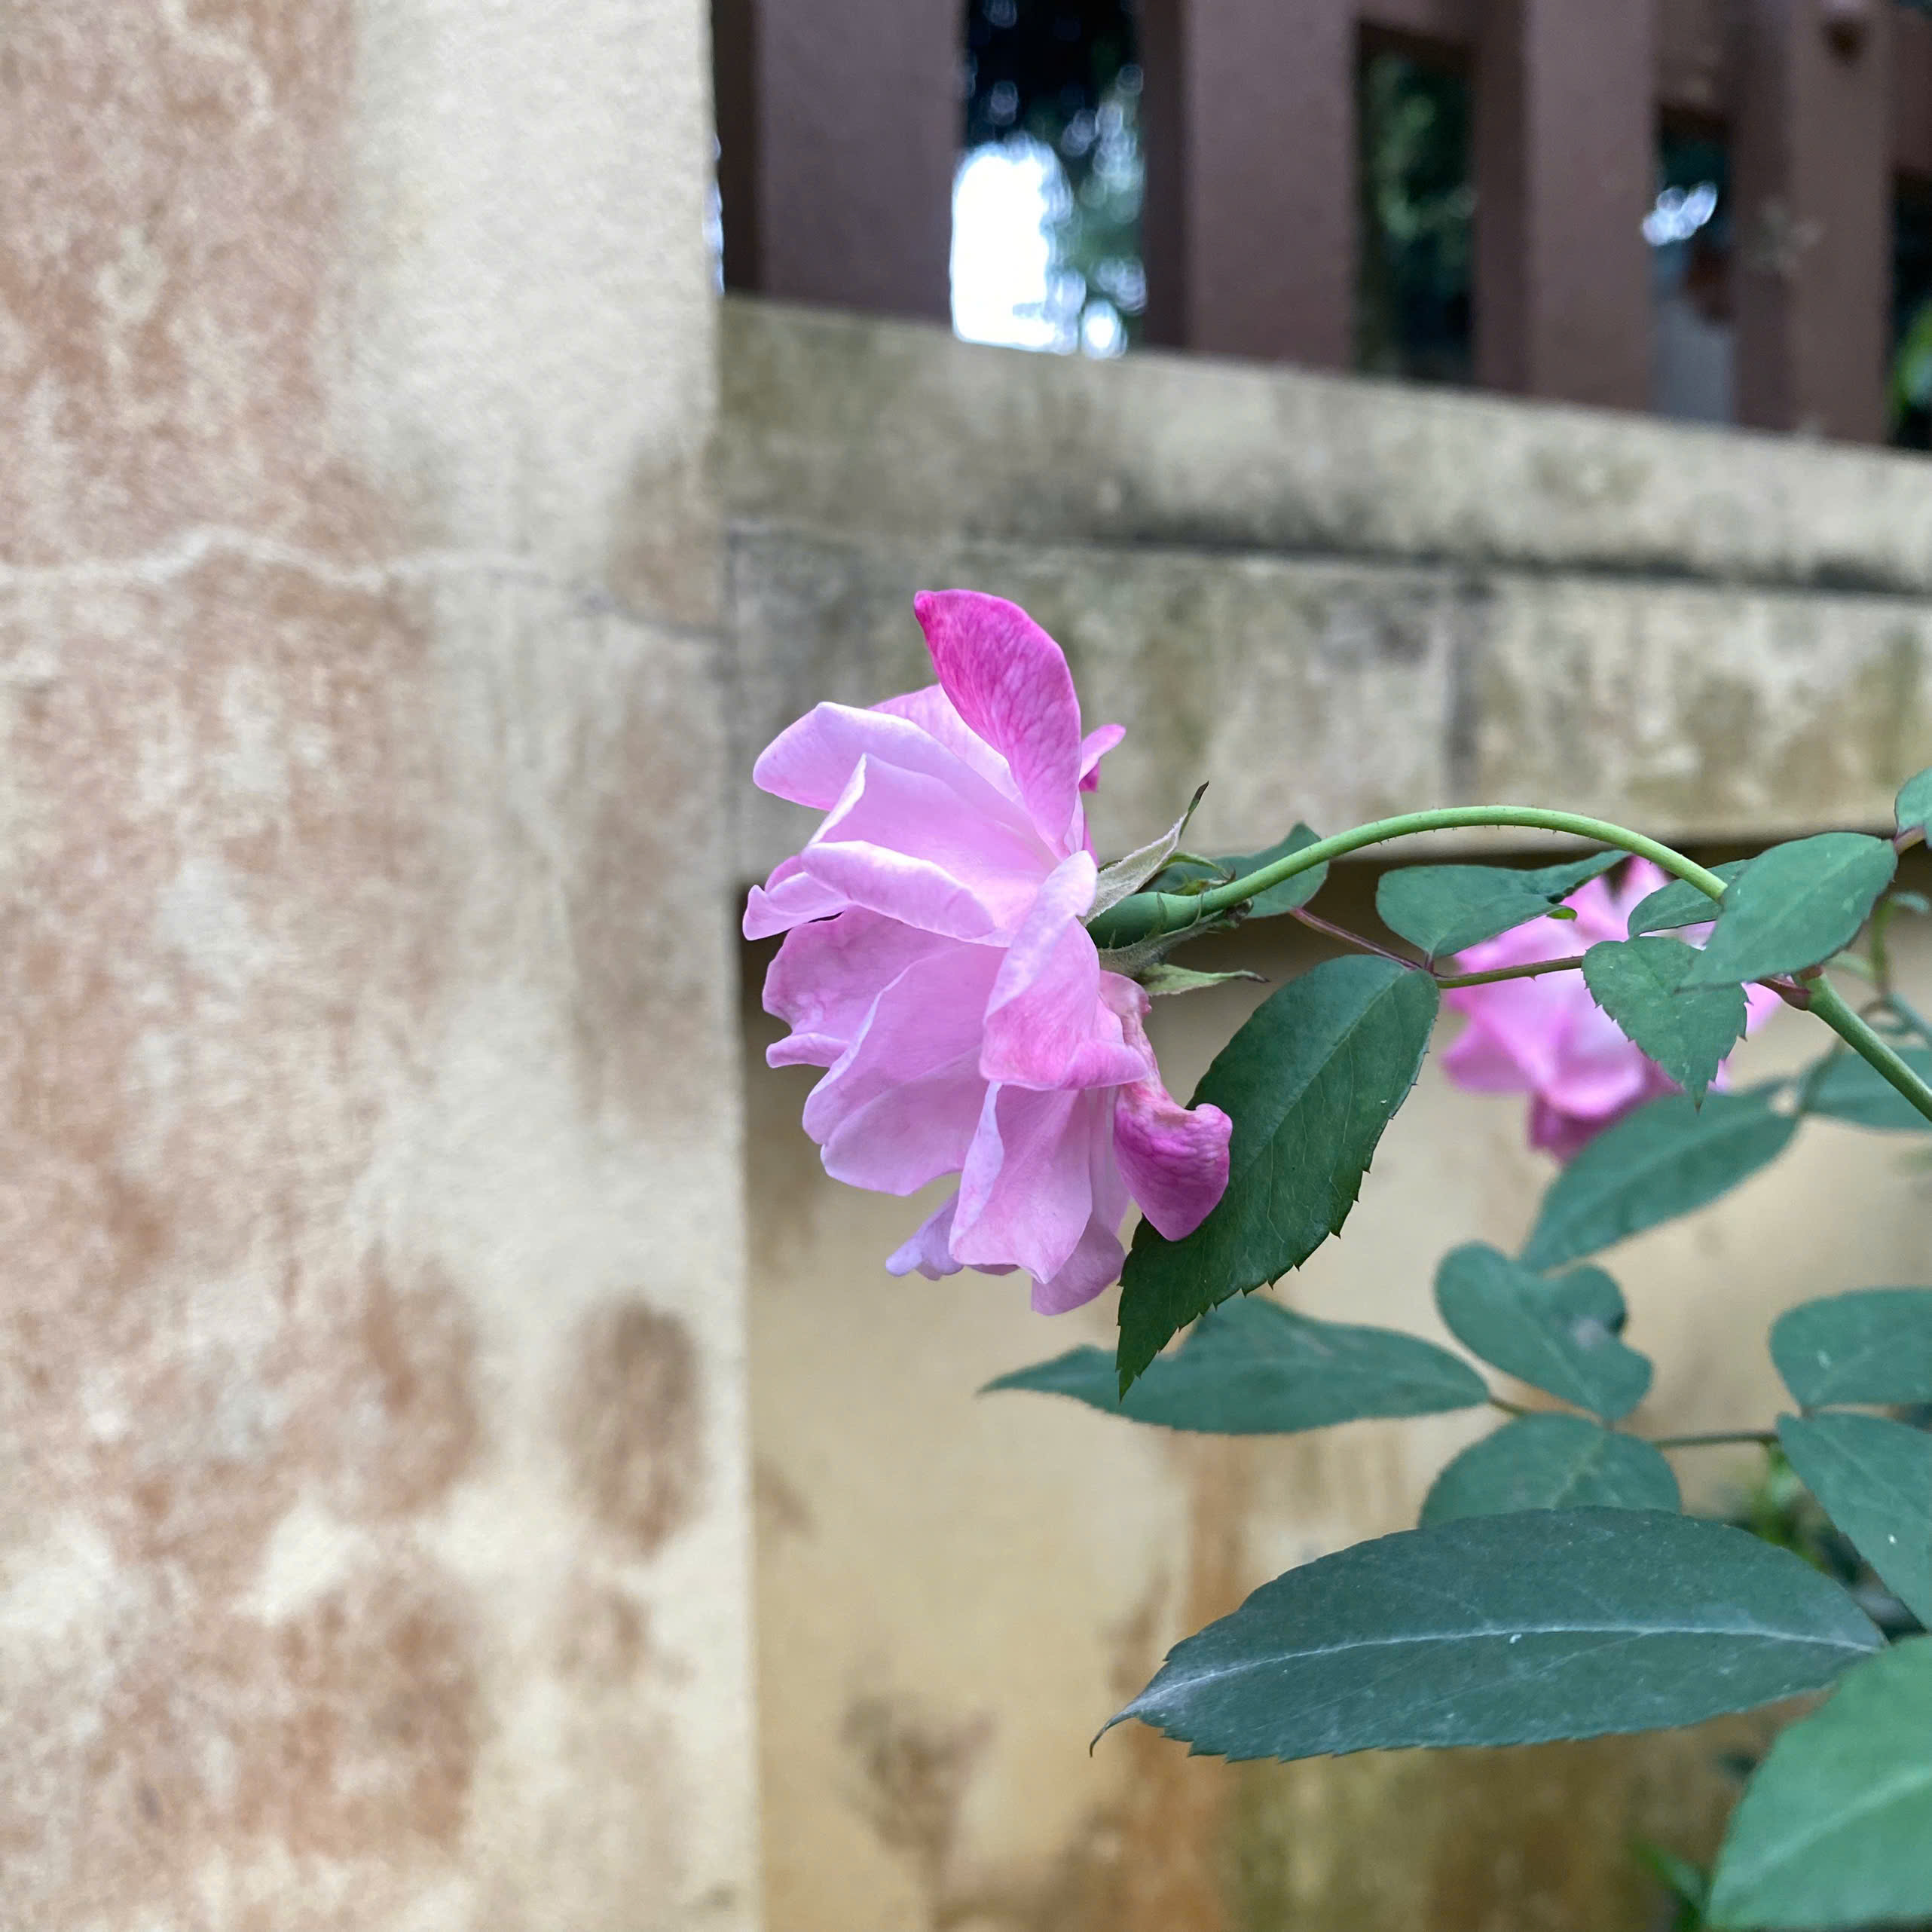hoa_hong_phan: (731, 557, 1932, 1384)
